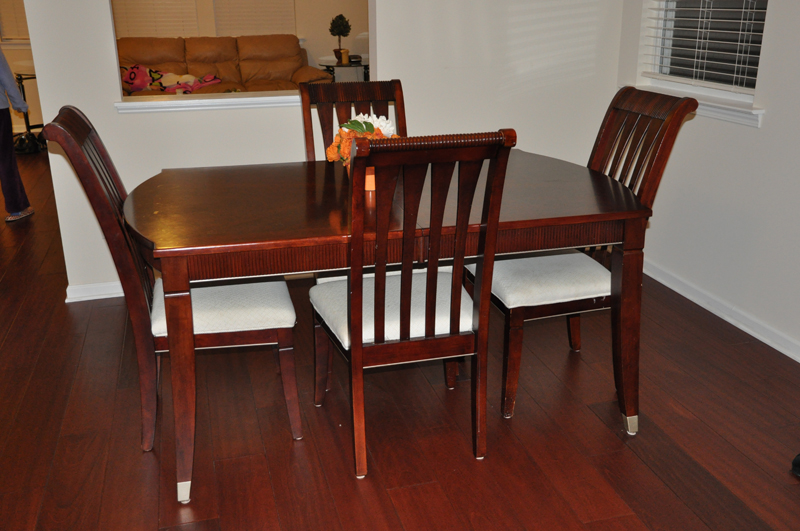chair: (337, 133, 506, 474)
dining table: (127, 144, 657, 481)
